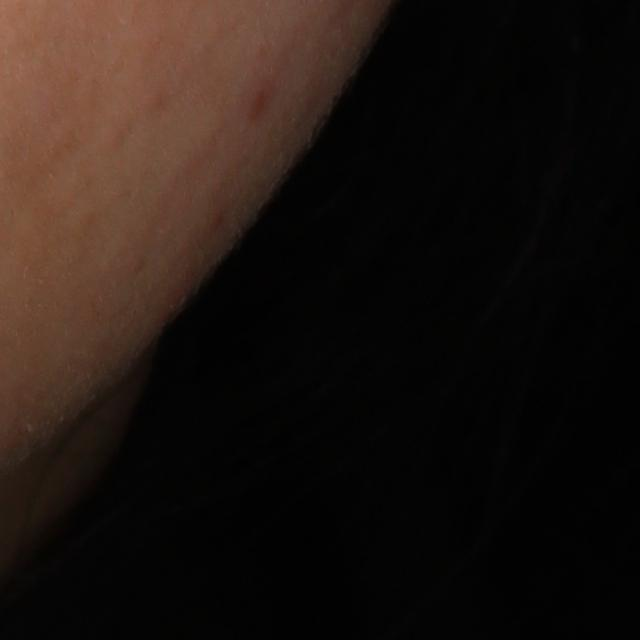papule: (243, 76, 281, 116)
